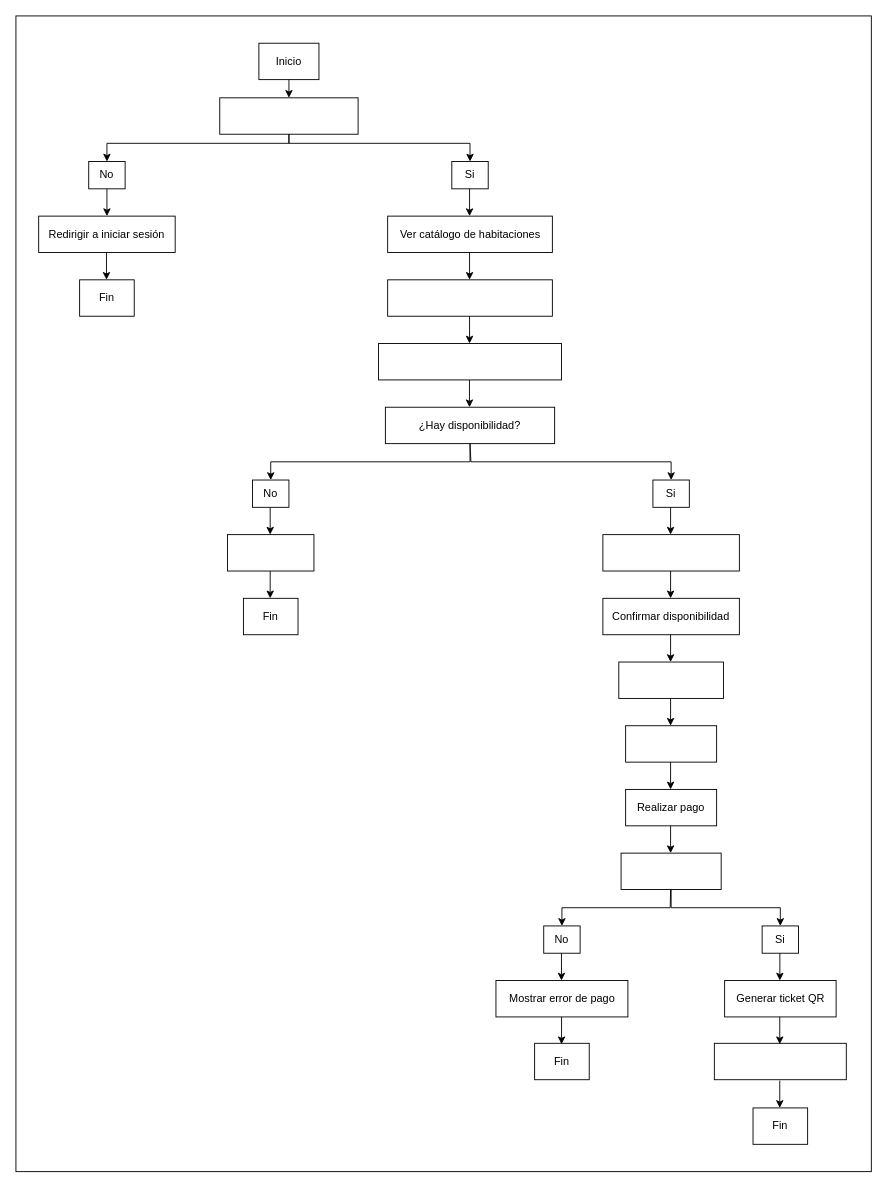
Some shapes in this 887 by 1188 pixel diagram are drawn without their labels. Each missing label, with the centre of its shape:
Calcular 30%: (671,743)
Consultar disponibilidad por fecha: (469,361)
Envíar ticket por correo: (779,1061)
Mostrar error: (270,552)
Registrar reserva: (670,679)
Seleccionar cantidad de días: (469,297)
Seleccionar habitación: (670,552)
¿Pago exitoso?: (670,871)
¿Usuario autenticado?: (288,115)
